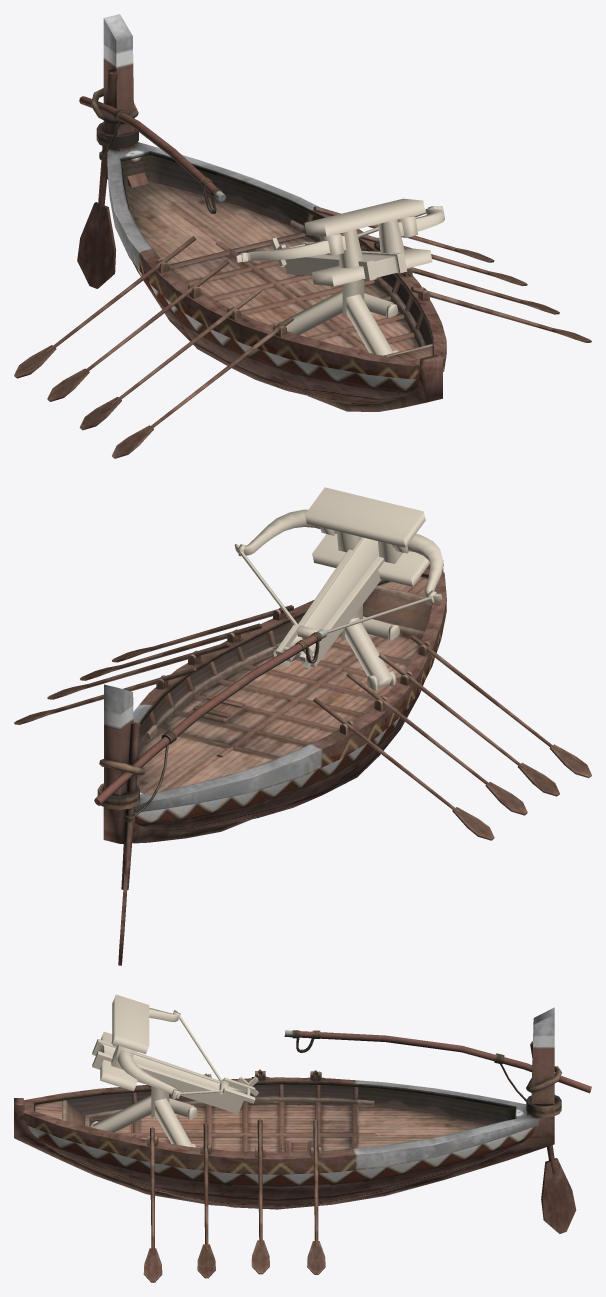
Rendered from 224-warbarge.glb.
3 views of the same model, one above another, from view 1: azimuth 30°, elevation 25°; view 2: azimuth 150°, elevation 25°; view 3: azimuth 270°, elevation 25° (orthographic). The views are drawn at different scales.
Bounding box in the file's own units: 5.98 × 3.25 × 7.48.
2 materials, 1 textured.
